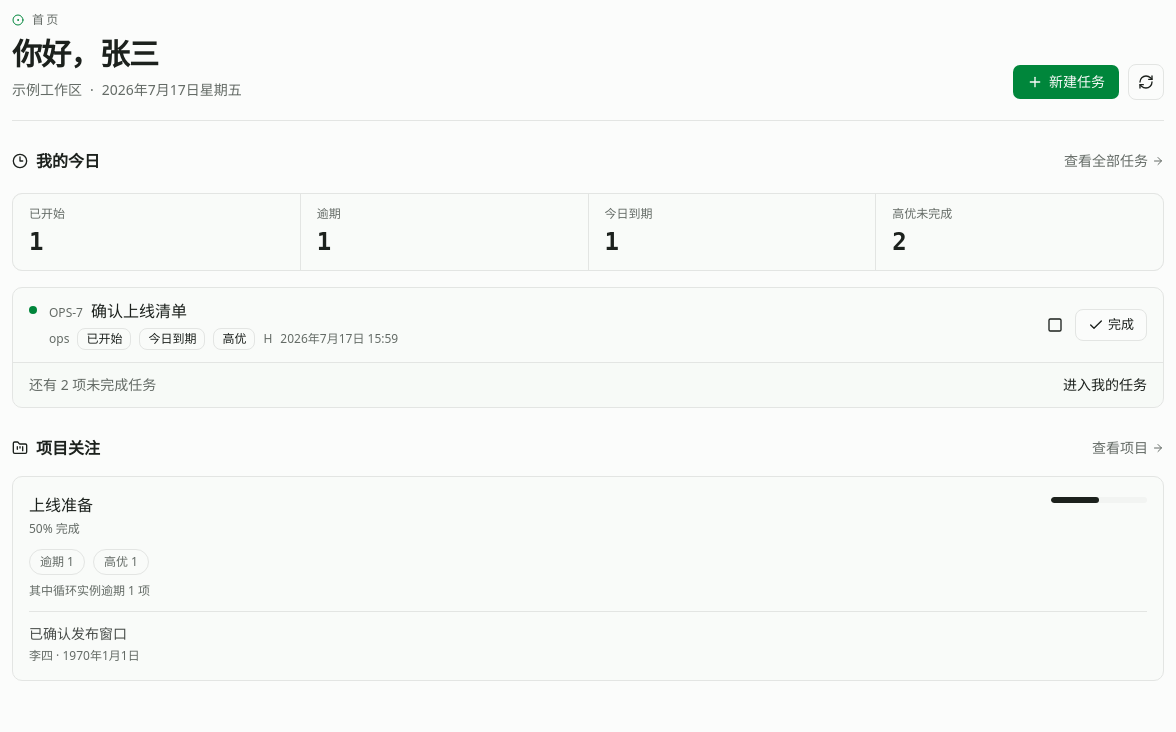
Test: HomePage › keeps a task visible and shows the backend error when an action fails
Expected: the text "确认上线清单" is shown, top-left (91, 300), bottom-right (187, 322)
Click the button "完成".
click(1111, 325)  # box top-left (1075, 309), bottom-right (1147, 341)
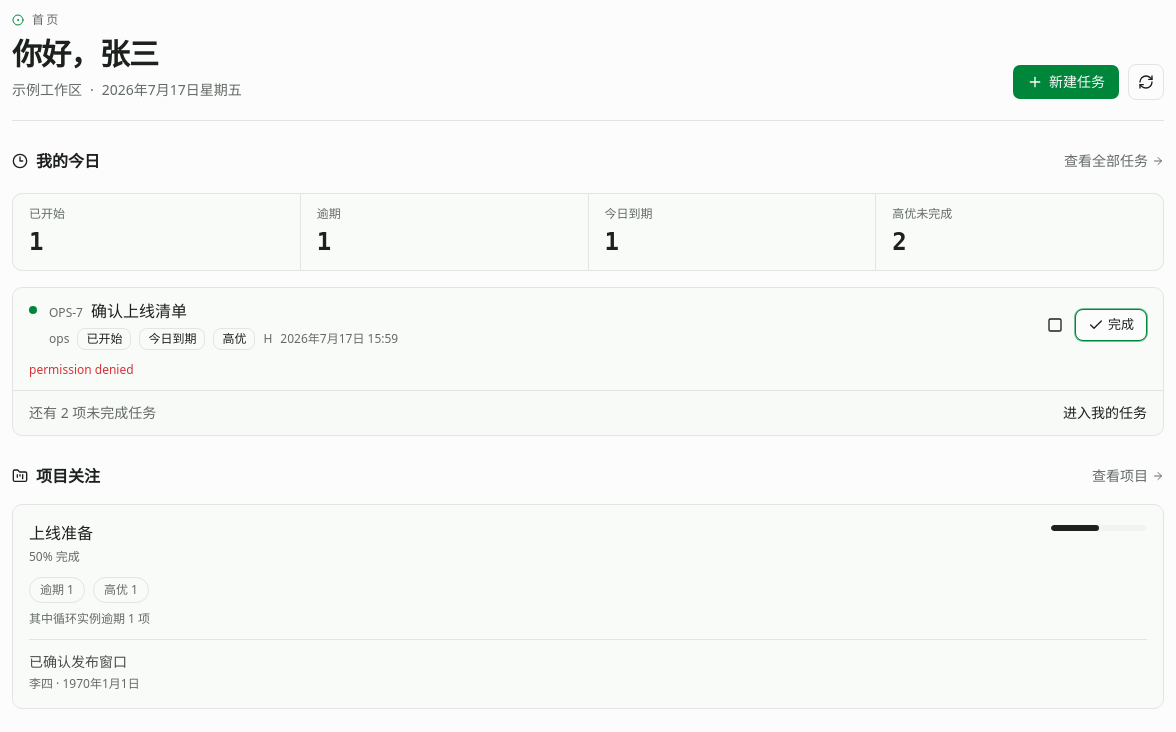
Expected: the text "确认上线清单" is shown, top-left (91, 300), bottom-right (187, 322)
Expected: the message reads "permission denied", top-left (29, 361), bottom-right (134, 378)
